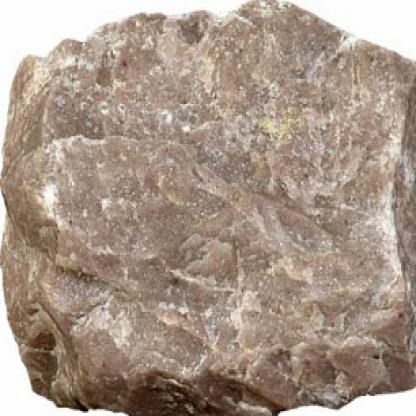Metamorphic_Quartize: (1, 2, 415, 414)
